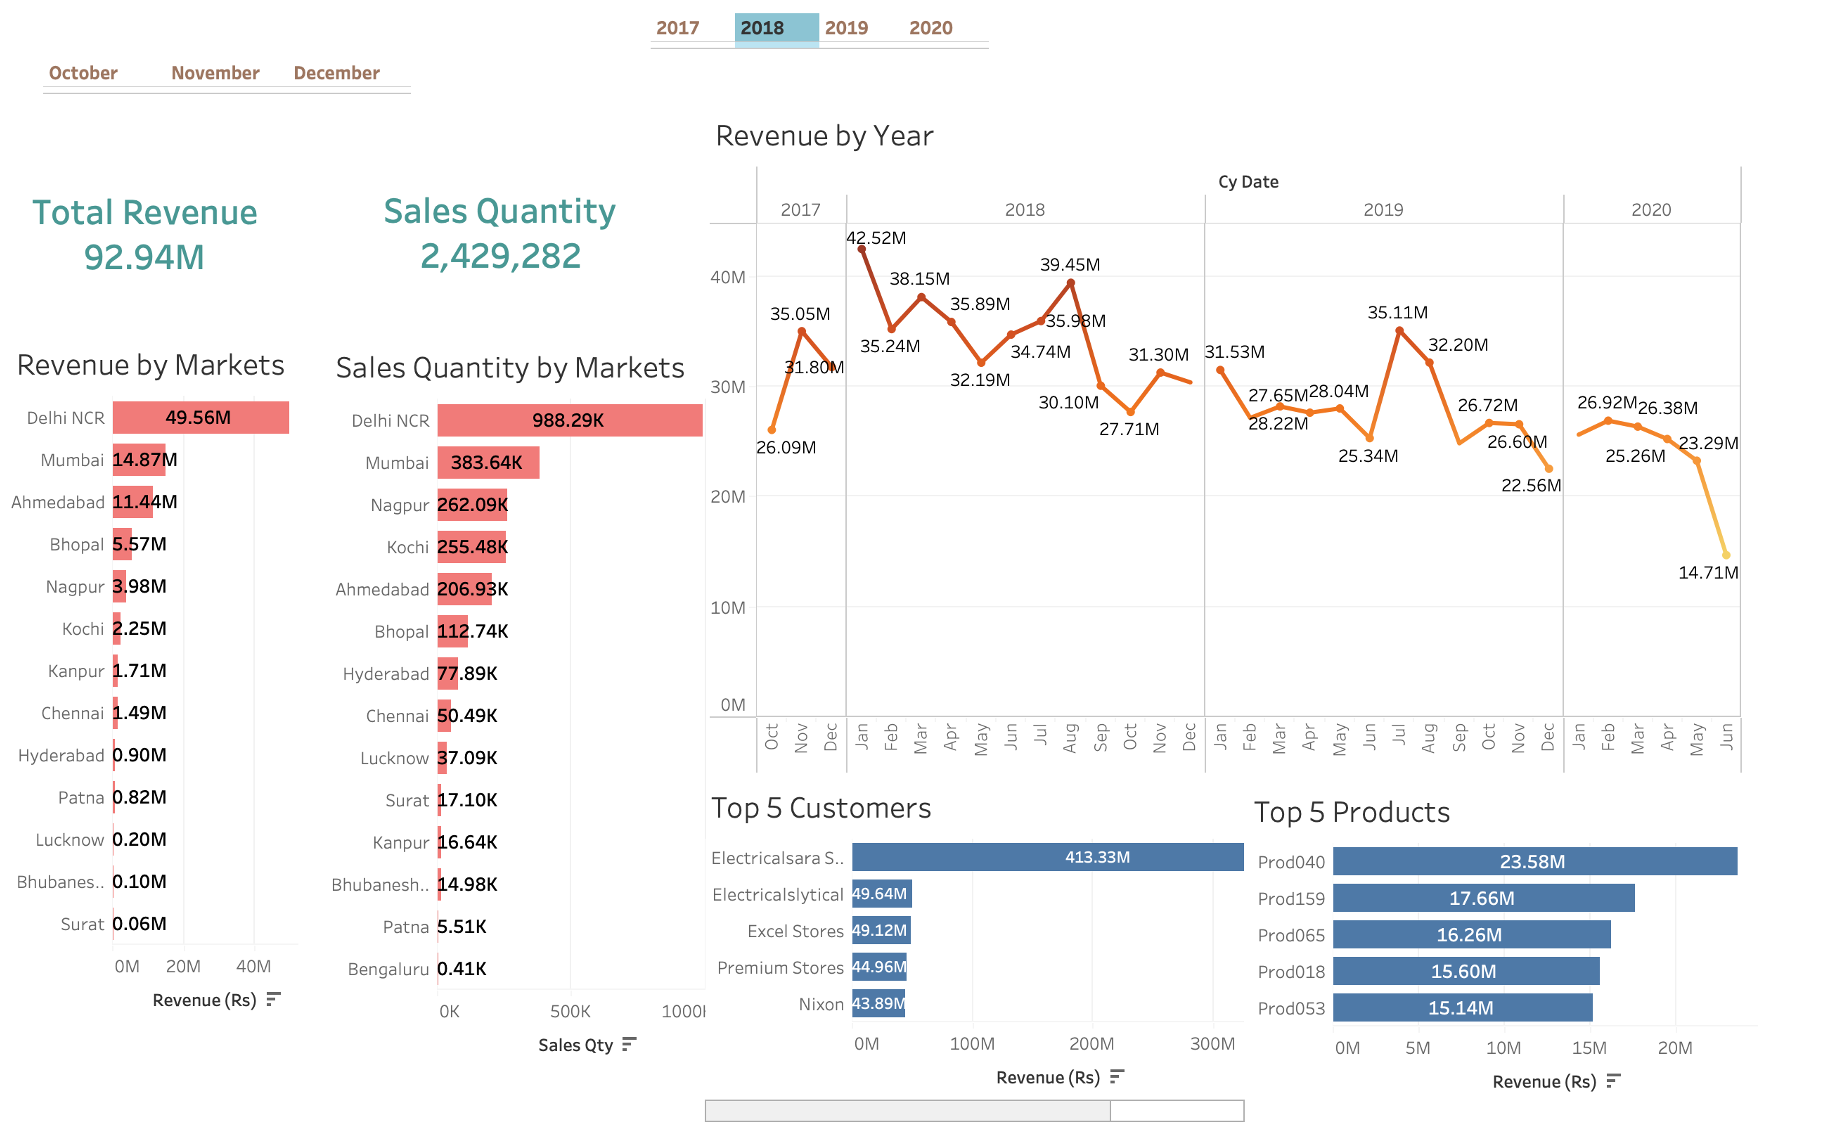

This screenshot's page, from the dashboard's own definition file:
{"tool":"tableau","page":{"name":"Revenue Analysis Dashboard","canvas":[1300,800],"ordinal":1},"visuals":[{"type":"worksheet","title":"Year","mark":"Automatic","cols":["cy_date"],"box":[461.5,8,322.4,36]},{"type":"worksheet","title":"Month","mark":"Automatic","cols":["cy_date"],"box":[30,40,1110,28]},{"type":"worksheet","title":"Revenue by Year","mark":"Automatic","rows":["Calculation_952511371062009859"],"cols":["cy_date","cy_date"],"box":[504,74,735,475]},{"type":"worksheet","title":"Sales Quantity","mark":"Automatic","box":[266,131,197,73]},{"type":"worksheet","title":"Total Revenue","mark":"Automatic","box":[13,132,196,77]},{"type":"worksheet","title":"Revenue by Markets","mark":"Automatic","rows":["markets_name"],"cols":["Calculation_952511371062009859"],"box":[7,237,257,530]},{"type":"worksheet","title":"Sales Quantity by Markets","mark":"Automatic","rows":["markets_name"],"cols":["sales_qty"],"box":[234,239,282,531]}]}

Visuals, with their boxes in screenshot pixels (x1, y1, x2, y2), scaled from the page's 1300x800 canvas onto the 1829x1127 screenshot:
"Year" worksheet: (left=649, top=11, right=1103, bottom=62)
"Month" worksheet: (left=42, top=56, right=1604, bottom=96)
"Revenue by Year" worksheet: (left=709, top=104, right=1743, bottom=773)
"Sales Quantity" worksheet: (left=374, top=185, right=651, bottom=287)
"Total Revenue" worksheet: (left=18, top=186, right=294, bottom=294)
"Revenue by Markets" worksheet: (left=10, top=334, right=371, bottom=1081)
"Sales Quantity by Markets" worksheet: (left=329, top=337, right=726, bottom=1085)
